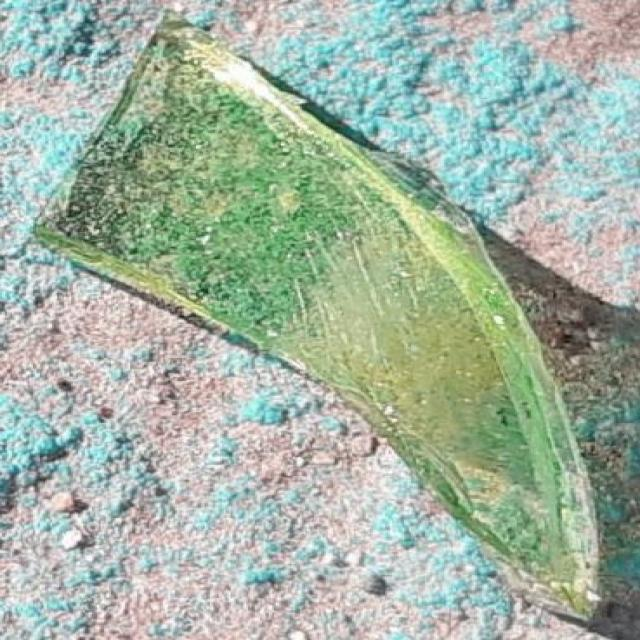Dry: (97, 40, 307, 352), (295, 114, 468, 398), (428, 320, 568, 547), (538, 492, 604, 608), (47, 147, 100, 255)
